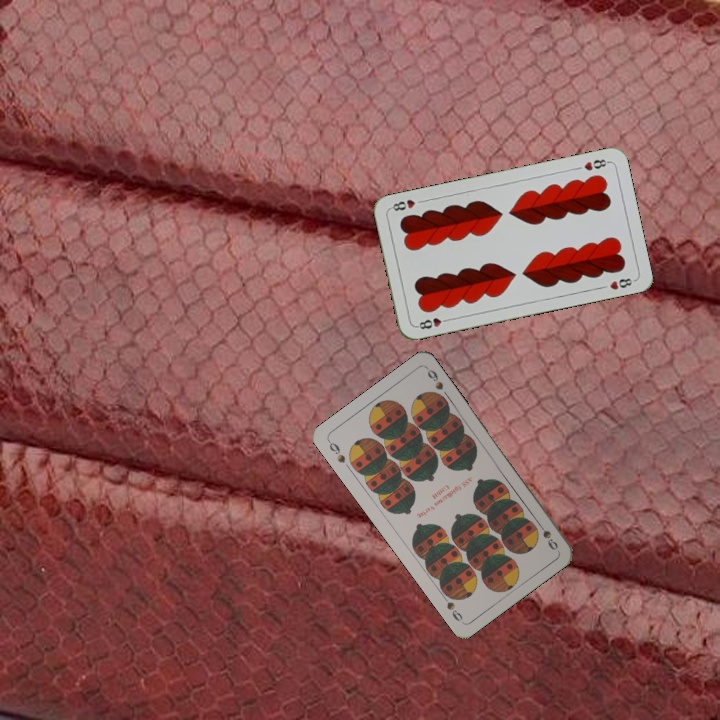H8: (412, 314, 453, 332), (580, 155, 612, 173)
S9: (533, 517, 561, 553), (324, 437, 348, 466)
